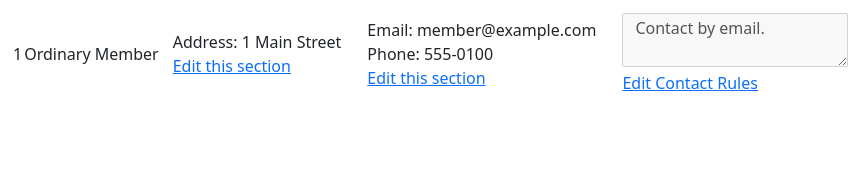
Test case: disables the rules save button while saving
The width and height of the screenshot is (865, 172).
Click the text "Edit Contact Rules". click: (690,83)
box: [622, 72, 758, 94]
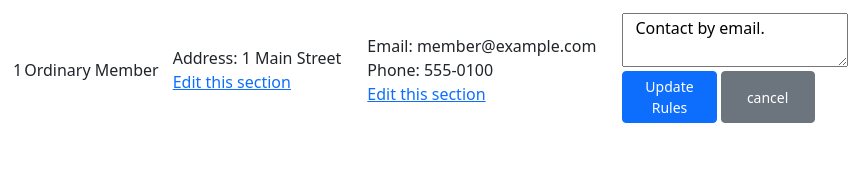
Click the button "Update Rules". click: (670,97)
box: [622, 71, 717, 123]
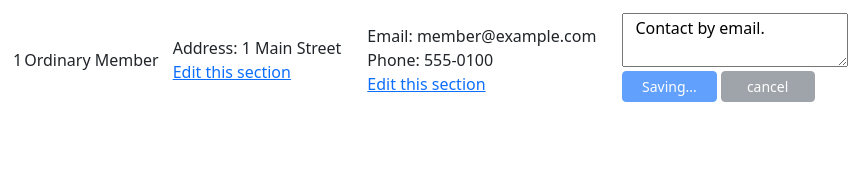
Result: the button named "Update Rules" is disabled at [622, 71, 717, 102]
Result: the button named "Update Rules" reads "Saving..." at [622, 71, 717, 102]
